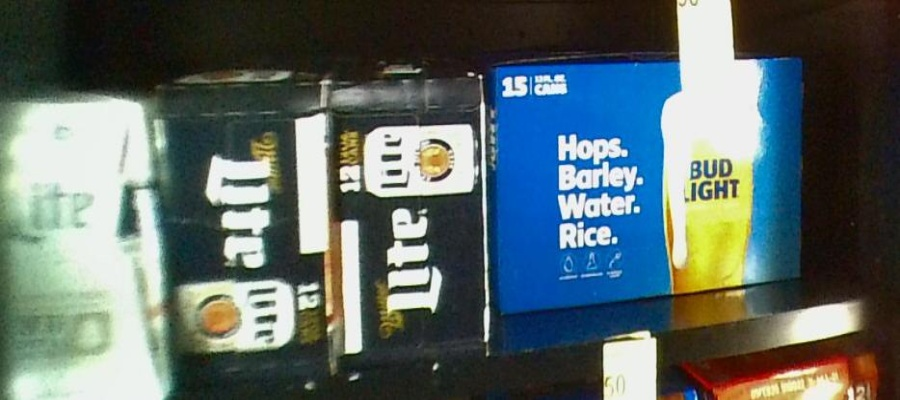bottle: (490, 55, 807, 297), (160, 78, 335, 378), (4, 98, 167, 400), (331, 74, 488, 359)
